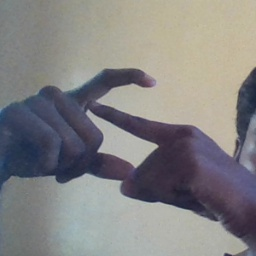E: (56, 60, 182, 191)
